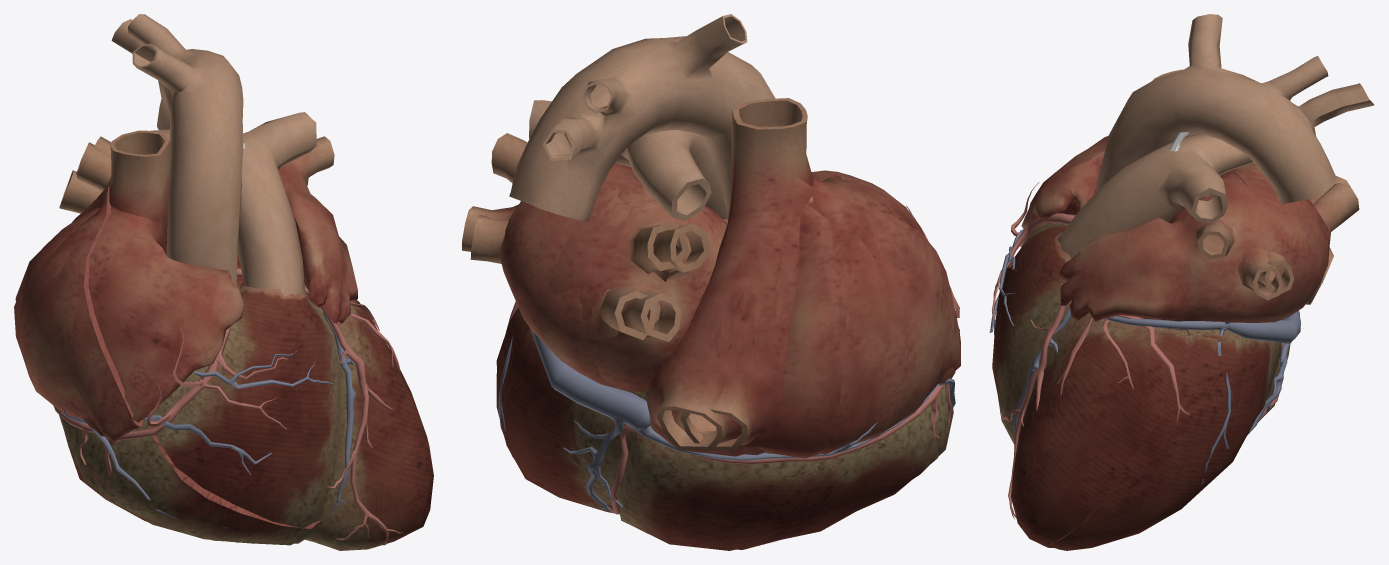
The model's file is Corazon Vincent.fbx.
The picture shows the model from 3 angles, left to right: view 1: azimuth 30°, elevation 25°; view 2: azimuth 150°, elevation 25°; view 3: azimuth 270°, elevation 25°; orthographic projection. The views are drawn at different scales.
Visible parts, largest first — view 1: HEART, heart, AORTA, ArteriaPolmonare, VenaCavaSuperior, ArteriaCoronariaDerecha, ArteriaCircunfleja, VeneCardiacaAnterior, GranVenaCardiaca, VenaPulmonarIzquierda, Miocardio; view 2: HEART, heart, AORTA, VenaCavaSuperior, ArteriaPolmonare, VenaCavaInferior, GranVenaCardiaca, ArteriaCoronariaDerecha, VeneCardiacaAnterior, VenaPulmonarDerecha, VenaPulmonarDerecha1, VenaPulmonarIzquierda (+2 smaller); view 3: HEART, AORTA, heart, ArteriaPolmonare, GranVenaCardiaca, ArteriaCircunfleja, VenaPulmonarIzquierda.001, VenaPulmonarDerecha1, ArteriaCoronariaDerecha, VenaPulmonarIzquierda, VeneCardiacaAnterior.
Boxes of the visible parts, x1,y1,x2,y2 form: HEART: (15, 162, 433, 550); heart: (14, 142, 321, 543); AORTA: (111, 14, 243, 286); ArteriaPolmonare: (151, 112, 316, 296); VenaCavaSuperior: (97, 130, 170, 225); ArteriaCoronariaDerecha: (53, 326, 287, 482); ArteriaCircunfleja: (237, 268, 402, 545); VeneCardiacaAnterior: (57, 351, 333, 531); GranVenaCardiaca: (322, 309, 356, 515); VenaPulmonarIzquierda: (290, 136, 334, 180); Miocardio: (148, 425, 321, 528); HEART: (496, 163, 959, 550); heart: (470, 177, 960, 549); AORTA: (509, 14, 775, 221); VenaCavaSuperior: (730, 98, 813, 212); ArteriaPolmonare: (529, 100, 727, 221); VenaCavaInferior: (649, 357, 741, 450); GranVenaCardiaca: (498, 242, 678, 511); ArteriaCoronariaDerecha: (608, 205, 959, 514); VeneCardiacaAnterior: (635, 378, 955, 460); VenaPulmonarDerecha: (633, 221, 688, 273); VenaPulmonarDerecha1: (599, 286, 656, 339); VenaPulmonarIzquierda: (491, 133, 527, 183); HEART: (992, 136, 1330, 548); AORTA: (1096, 14, 1373, 204); heart: (1050, 163, 1350, 550); ArteriaPolmonare: (1057, 134, 1253, 257); GranVenaCardiaca: (1013, 306, 1300, 485); ArteriaCircunfleja: (1000, 304, 1189, 519); VenaPulmonarIzquierda.001: (1237, 247, 1283, 300); VenaPulmonarDerecha1: (1313, 183, 1359, 231); ArteriaCoronariaDerecha: (991, 182, 1283, 420); VenaPulmonarIzquierda: (1196, 219, 1234, 258); VeneCardiacaAnterior: (989, 229, 1023, 334).
Bounding box in the file's own units: 1408 × 1843 × 1401.
